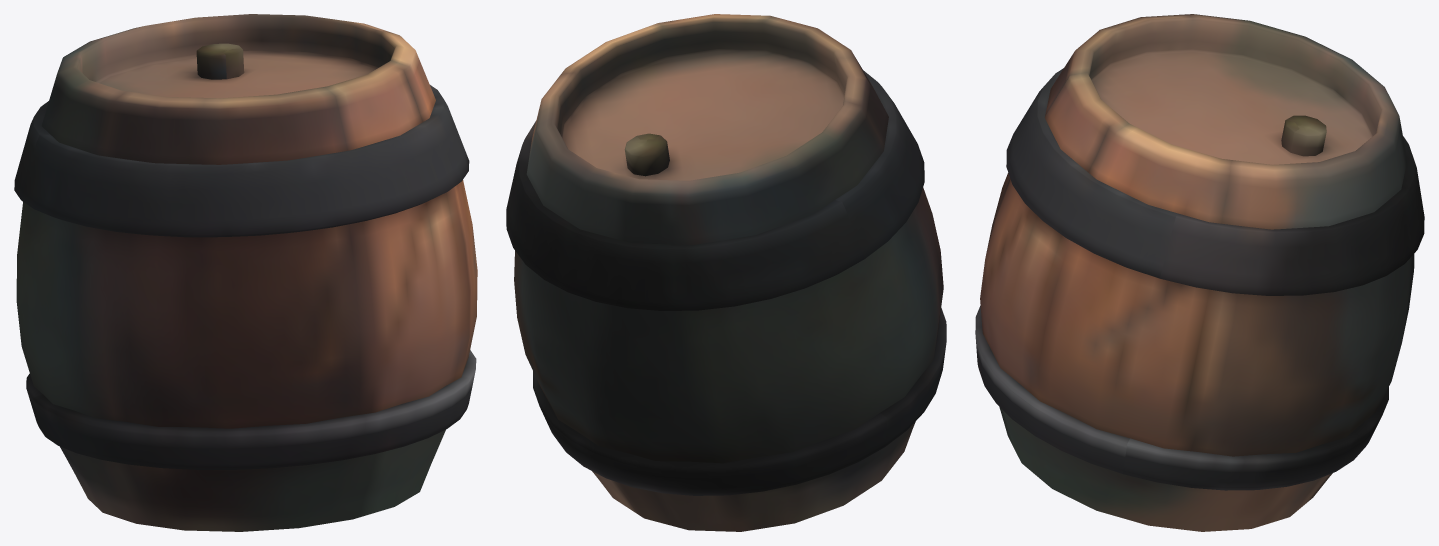
File: Beach_Debris_2.glb
The picture shows the model from 3 angles, left to right: view 1: azimuth 30°, elevation 25°; view 2: azimuth 150°, elevation 25°; view 3: azimuth 270°, elevation 25°; orthographic projection. The views are drawn at different scales.
Visible parts, largest first — view 1: Object_2.007; view 2: Object_2.007; view 3: Object_2.007.
Part boxes in pixels (x1,y1,x2,y2): Object_2.007: [14, 14, 477, 531]; Object_2.007: [506, 14, 946, 531]; Object_2.007: [975, 14, 1424, 531].
Bounding box in the file's own units: 9.05 × 9.76 × 9.41.
Materials: 1 (1 with a texture image).
